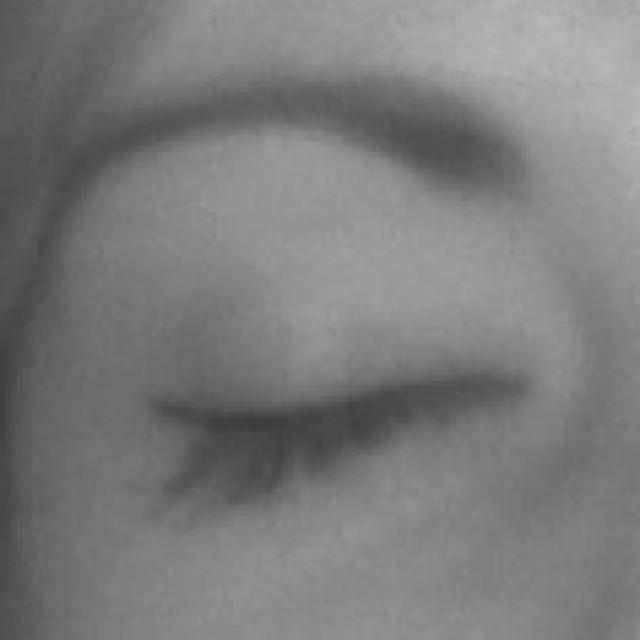drowsy: (150, 228, 524, 602)
